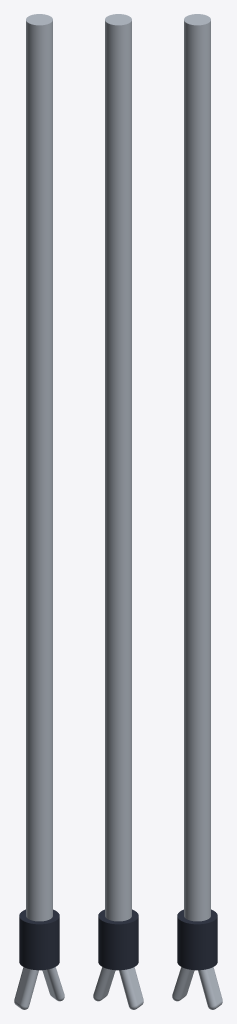
The model's file is instrument-grasper.glb.
3 renders of one model, left to right at view 1: azimuth 30°, elevation 25°; view 2: azimuth 150°, elevation 25°; view 3: azimuth 330°, elevation 25°, orthographic.
Parts seen in each view (by area): view 1: instrument-grasper, wrist, jawB, jawA; view 2: instrument-grasper, wrist, jawB, jawA; view 3: instrument-grasper, wrist, jawA, jawB.
Boxes of the visible parts, x1=… form: instrument-grasper: x1=26, y1=14, x2=52, y2=921; wrist: x1=19, y1=909, x2=59, y2=970; jawB: x1=14, y1=967, x2=38, y2=1009; jawA: x1=42, y1=967, x2=64, y2=1001; instrument-grasper: x1=105, y1=14, x2=131, y2=921; wrist: x1=98, y1=909, x2=138, y2=970; jawB: x1=119, y1=967, x2=143, y2=1009; jawA: x1=93, y1=967, x2=115, y2=1001; instrument-grasper: x1=184, y1=14, x2=210, y2=921; wrist: x1=177, y1=909, x2=217, y2=970; jawA: x1=198, y1=967, x2=222, y2=1009; jawB: x1=172, y1=967, x2=194, y2=1001.
Size of the model in its own units: 0.0151 by 0.3211 by 0.012.
